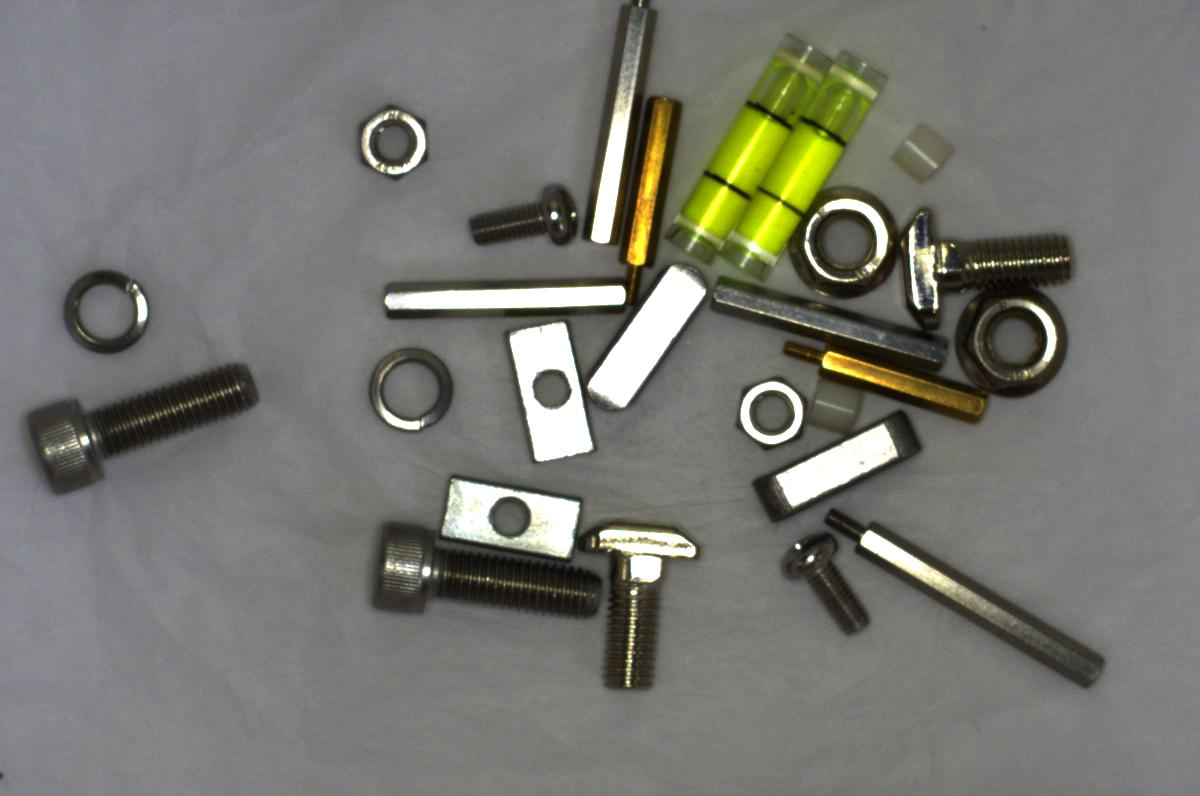Double hexagonal column: (703, 274, 955, 374), (370, 271, 628, 326)
Flange nut: (778, 178, 903, 300), (957, 290, 1083, 400)
Hexagon nut: (347, 100, 434, 192), (726, 371, 805, 454)
Hexagon pillar: (780, 336, 1001, 427), (621, 94, 689, 299)
Hexagon screw: (28, 355, 275, 500), (366, 517, 614, 632)
Hexagonal steel column: (814, 495, 1114, 695)
Horizontal bubble: (646, 33, 837, 256), (737, 44, 888, 283)
Keybar: (756, 398, 938, 527), (576, 259, 712, 421)
Plastic cushion pillar: (879, 118, 965, 191), (800, 372, 873, 433)
Rectangular nut: (497, 315, 602, 467), (430, 471, 584, 564)
Round head screw: (774, 526, 876, 640), (460, 181, 583, 250)
Spring washer: (356, 341, 461, 436), (58, 264, 156, 359)
T-shaped screw: (894, 200, 1091, 318), (584, 512, 705, 686)
